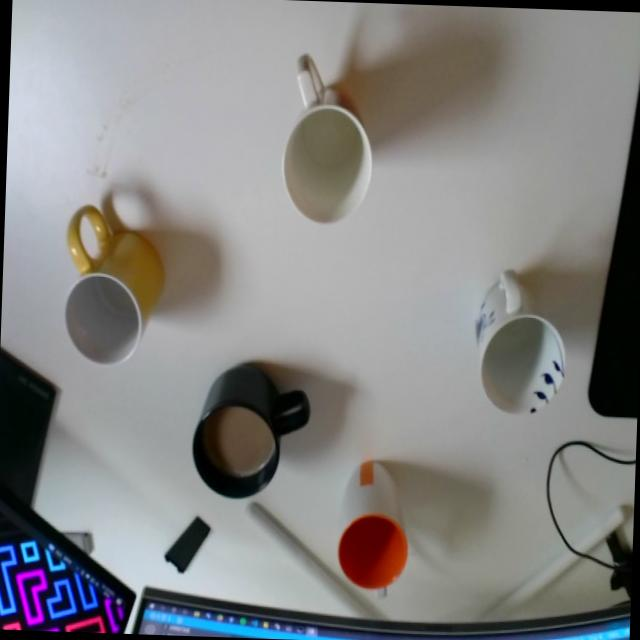Cocio Cup: (59, 204, 168, 368)
Cup: (188, 364, 314, 502)
Halloween cup: (279, 54, 376, 228)
Hand painted cup: (472, 256, 568, 416)
White Cup: (334, 458, 408, 598)
